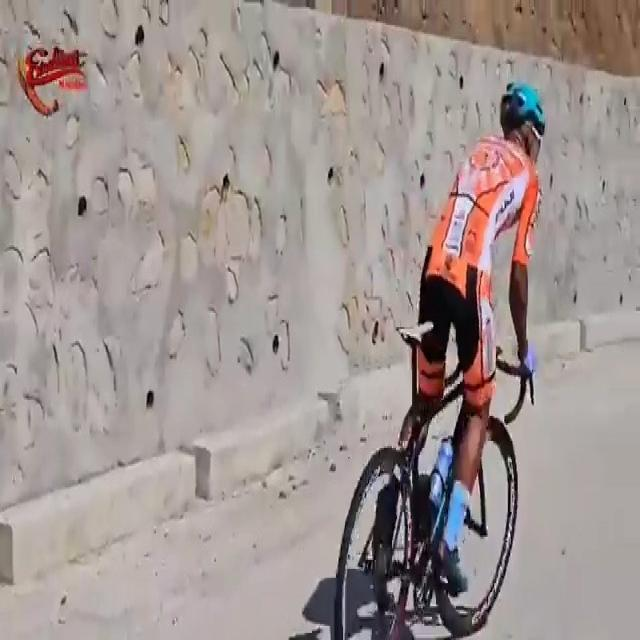bike: (332, 73, 549, 640)
